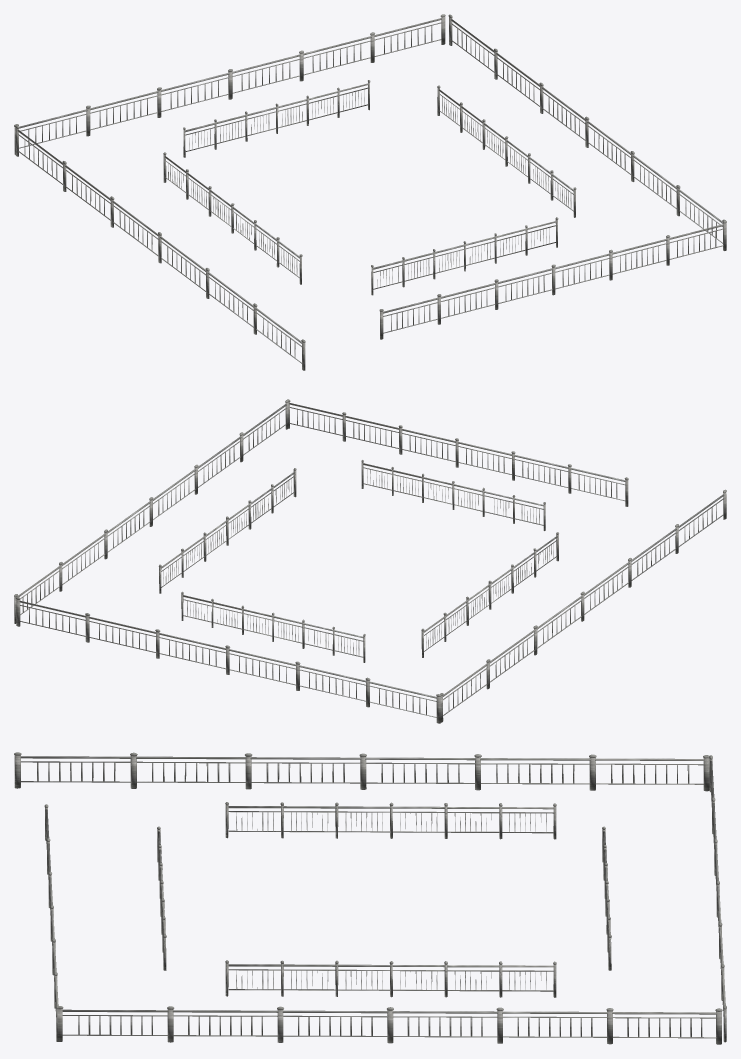
Rendered from fence.obj.
The picture shows the model from 3 angles, top to bottom: view 1: azimuth 30°, elevation 25°; view 2: azimuth 150°, elevation 25°; view 3: azimuth 270°, elevation 25°; orthographic projection. The views are drawn at different scales.
Visible parts, largest first — view 1: Cylinder01.002, Cylinder01.003, Cylinder01.004, Cylinder01.005, Cylinder01.001, Cylinder01, Cylinder01.007, Cylinder01.006; view 2: Cylinder01.002, Cylinder01.003, Cylinder01.004, Cylinder01.005, Cylinder01.001, Cylinder01, Cylinder01.006, Cylinder01.007; view 3: Cylinder01.004, Cylinder01.005, Cylinder01.006, Cylinder01.007, Cylinder01.002, Cylinder01.003, Cylinder01.001, Cylinder01.
Boxes of the visible parts, left/top/right/bottom form: Cylinder01.002: left=14, top=14, right=445, bottom=154; Cylinder01.003: left=379, top=220, right=726, bottom=339; Cylinder01.004: left=15, top=125, right=305, bottom=370; Cylinder01.005: left=448, top=14, right=725, bottom=249; Cylinder01.001: left=183, top=80, right=370, bottom=157; Cylinder01: left=371, top=217, right=558, bottom=295; Cylinder01.007: left=163, top=152, right=302, bottom=284; Cylinder01.006: left=437, top=85, right=576, bottom=217; Cylinder01.002: left=16, top=597, right=440, bottom=723; Cylinder01.003: left=287, top=399, right=628, bottom=506; Cylinder01.004: left=440, top=489, right=726, bottom=722; Cylinder01.005: left=14, top=399, right=288, bottom=623; Cylinder01.001: left=181, top=591, right=365, bottom=662; Cylinder01: left=361, top=460, right=545, bottom=530; Cylinder01.006: left=158, top=468, right=296, bottom=593; Cylinder01.007: left=421, top=532, right=558, bottom=657; Cylinder01.004: left=14, top=752, right=709, bottom=791; Cylinder01.005: left=58, top=1006, right=722, bottom=1044; Cylinder01.006: left=225, top=960, right=556, bottom=997; Cylinder01.007: left=225, top=802, right=556, bottom=839; Cylinder01.002: left=709, top=755, right=726, bottom=1042; Cylinder01.003: left=44, top=804, right=58, bottom=1041; Cylinder01.001: left=602, top=826, right=611, bottom=970; Cylinder01: left=157, top=826, right=166, bottom=970.
Bounding box in the file's own units: 12.64 × 0.8135 × 14.78.
Materials: 8 (8 with a texture image).
